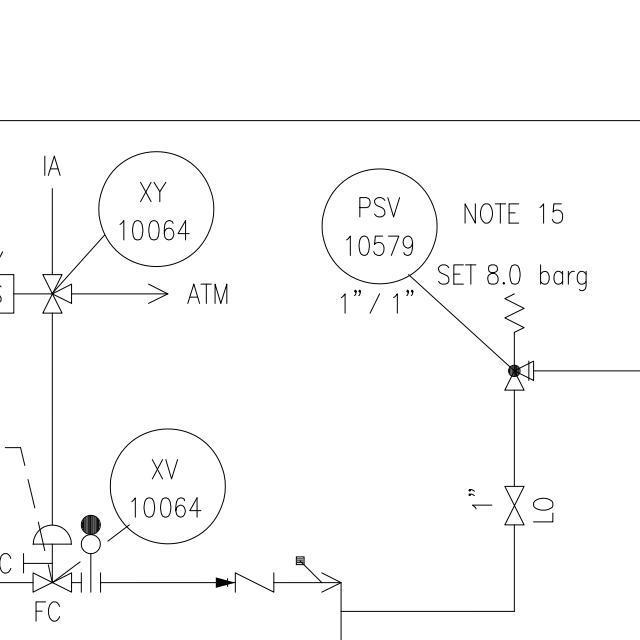3W: (38, 269, 76, 318)
FC: (29, 519, 77, 602)
GV: (501, 480, 528, 532)
RPV: (500, 286, 538, 397)
